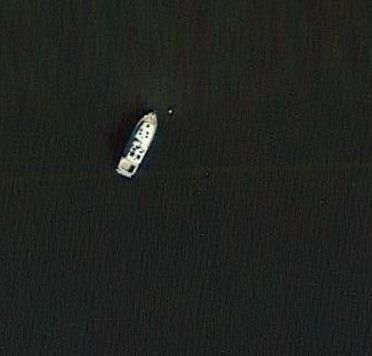boat: (113, 110, 161, 180)
